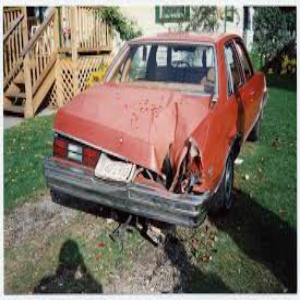bonnet: (67, 94, 192, 157)
